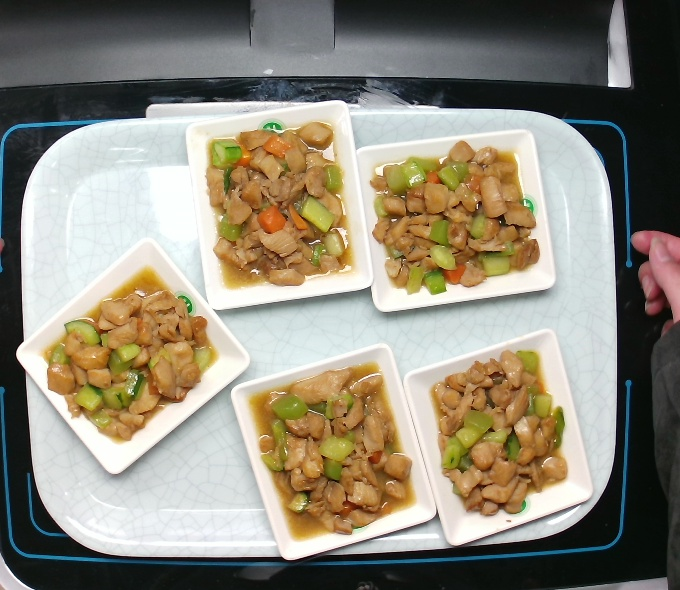wcq-GongBaoJiDing: (40, 279, 220, 442), (253, 365, 415, 542), (368, 141, 552, 294), (200, 122, 357, 290), (432, 348, 571, 521)
